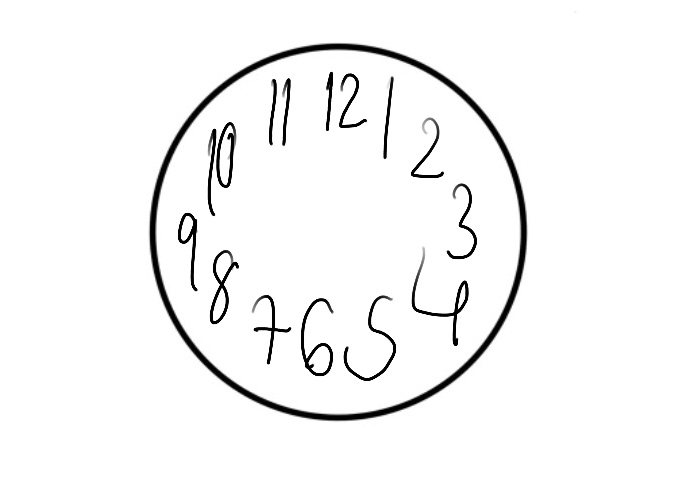eight: (206, 242, 245, 322)
eleven: (264, 71, 292, 157)
five: (340, 284, 403, 382)
four: (409, 265, 470, 346)
nine: (170, 202, 207, 297)
one: (380, 68, 400, 164)
seven: (249, 288, 289, 369)
six: (297, 285, 338, 377)
ten: (204, 121, 238, 209)
three: (445, 177, 483, 264)
twelve: (318, 64, 371, 136)
two: (407, 118, 450, 181)
